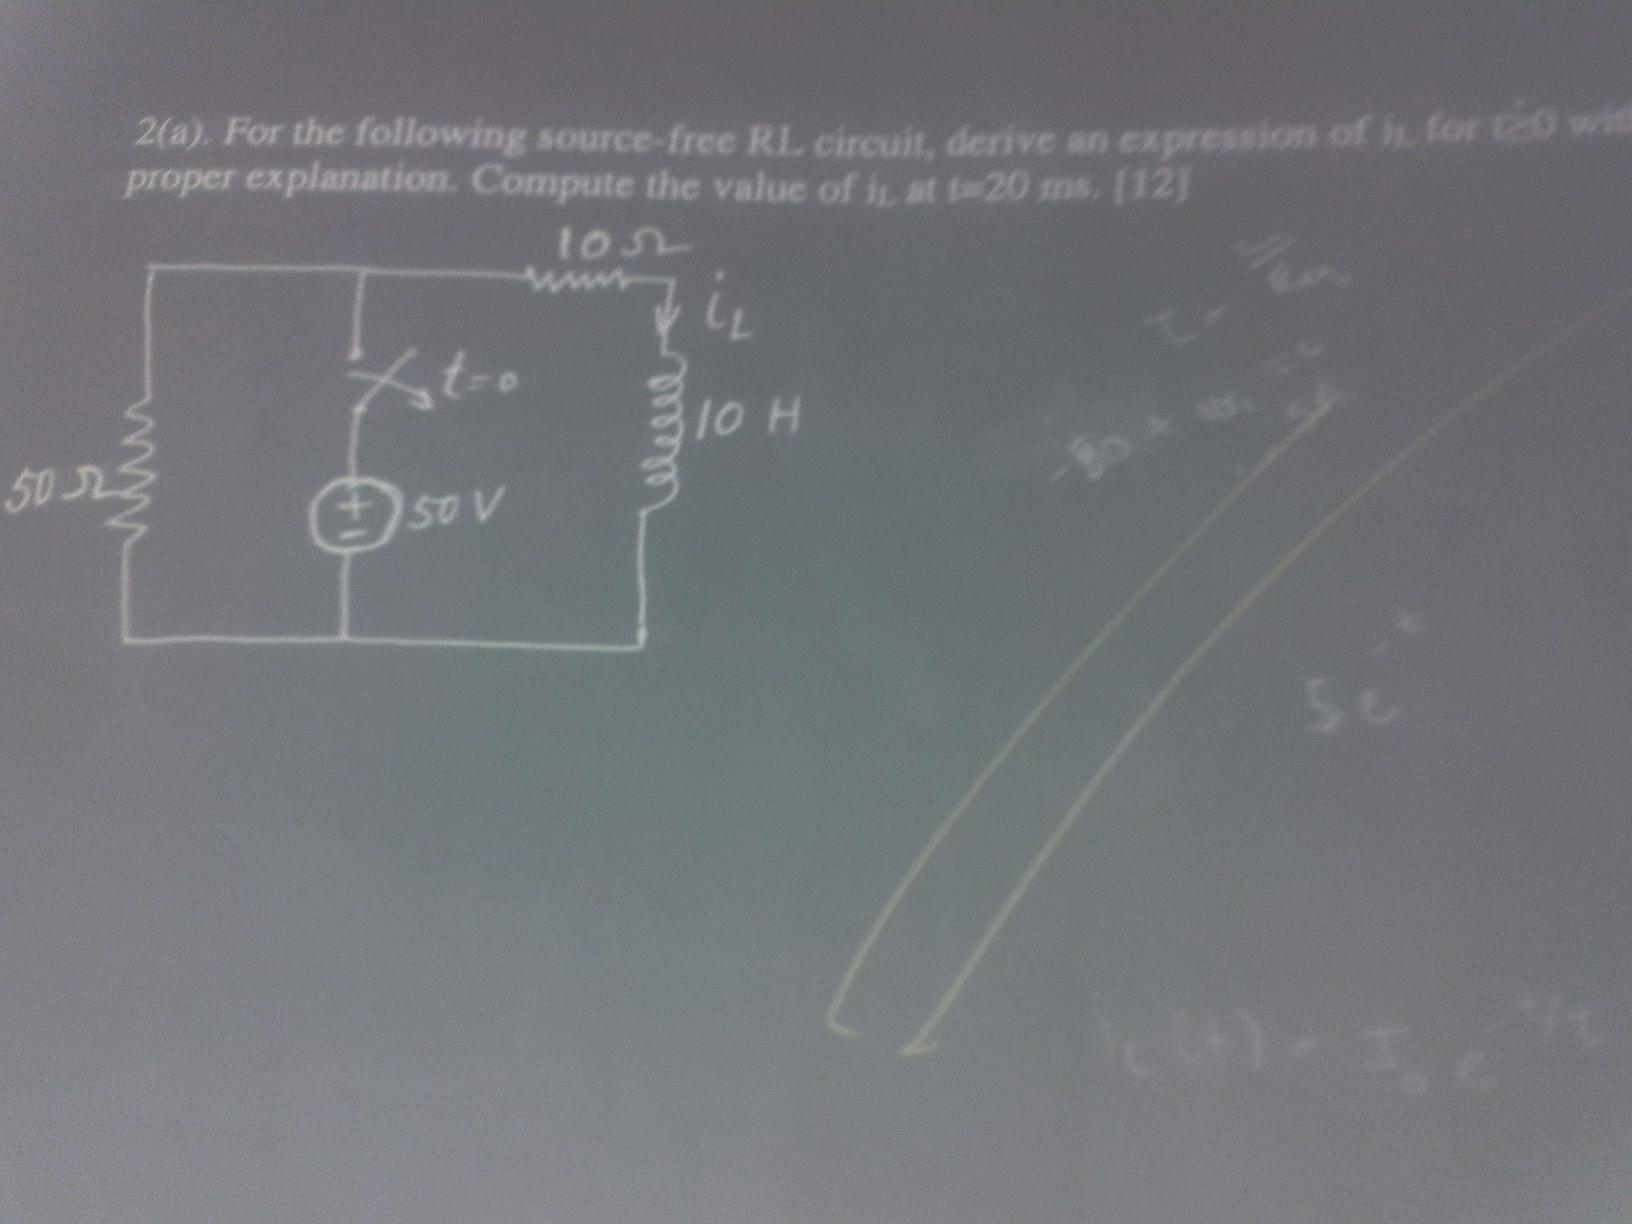Battery: (279, 451, 409, 570)
